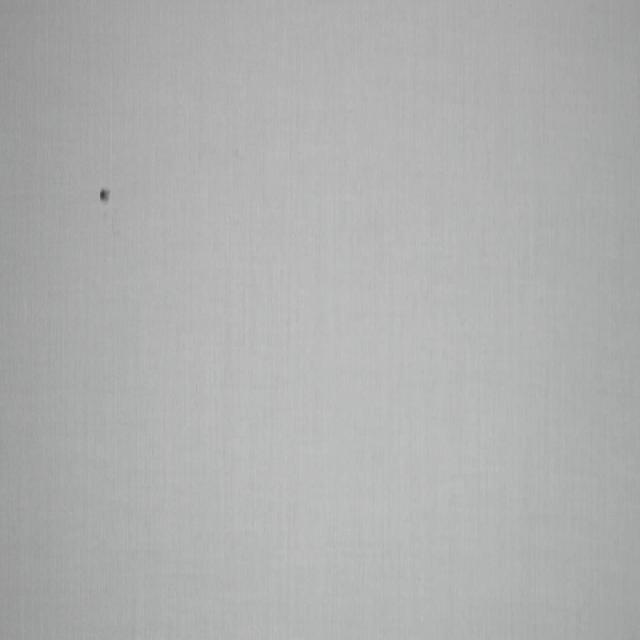dirty: (100, 189, 110, 203)
